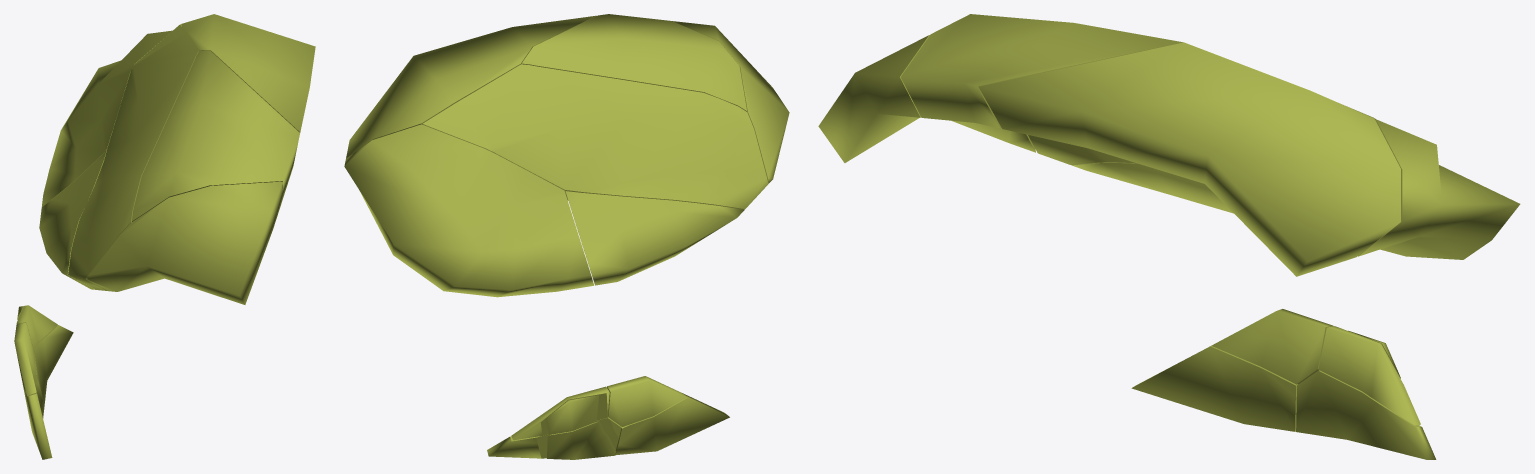
The model's file is Plaque_03.fbx.
The picture shows the model from 3 angles, left to right: view 1: azimuth 30°, elevation 25°; view 2: azimuth 150°, elevation 25°; view 3: azimuth 270°, elevation 25°; orthographic projection. The views are drawn at different scales.
Visible parts, largest first — view 1: tooth_d.039_cell.002, tooth_d.039_cell, tooth_d.039_cell.003, tooth_d.039_cell.004, tooth_d.039_cell.001, tooth_d.039_cell.005, tooth_d.050_cell.001, tooth_d.050_cell.004, tooth_d.050_cell.005, tooth_d.050_cell.002; view 2: tooth_d.039_cell.003, tooth_d.039_cell.001, tooth_d.039_cell, tooth_d.039_cell.004, tooth_d.039_cell.005, tooth_d.039_cell.002, tooth_d.050_cell.005, tooth_d.050_cell.004, tooth_d.050_cell.003, tooth_d.050_cell.001, tooth_d.050_cell, tooth_d.050_cell.002; view 3: tooth_d.039_cell.004, tooth_d.039_cell, tooth_d.039_cell.001, tooth_d.050_cell.005, tooth_d.039_cell.002, tooth_d.050_cell.001, tooth_d.050_cell.004, tooth_d.050_cell.002, tooth_d.039_cell.005, tooth_d.039_cell.003.
Boxes of the visible parts, x1,y1,x2,y2 form: tooth_d.039_cell.002: [86, 181, 282, 304]; tooth_d.039_cell: [131, 50, 299, 221]; tooth_d.039_cell.003: [68, 24, 198, 290]; tooth_d.039_cell.004: [181, 14, 315, 132]; tooth_d.039_cell.001: [42, 24, 181, 206]; tooth_d.039_cell.005: [39, 149, 106, 289]; tooth_d.050_cell.001: [34, 325, 73, 404]; tooth_d.050_cell.004: [14, 323, 36, 395]; tooth_d.050_cell.005: [23, 375, 52, 459]; tooth_d.050_cell.002: [16, 305, 57, 352]; tooth_d.039_cell.003: [423, 64, 768, 209]; tooth_d.039_cell.001: [344, 124, 593, 297]; tooth_d.039_cell: [521, 14, 746, 111]; tooth_d.039_cell.004: [346, 15, 596, 158]; tooth_d.039_cell.005: [565, 191, 744, 285]; tooth_d.039_cell.002: [671, 21, 789, 183]; tooth_d.050_cell.005: [615, 392, 729, 455]; tooth_d.050_cell.004: [607, 376, 686, 426]; tooth_d.050_cell.003: [547, 421, 615, 459]; tooth_d.050_cell.001: [487, 417, 621, 458]; tooth_d.050_cell: [545, 395, 598, 434]; tooth_d.050_cell.002: [511, 386, 609, 440]; tooth_d.039_cell.004: [978, 42, 1400, 276]; tooth_d.039_cell: [900, 14, 1183, 128]; tooth_d.039_cell.001: [1358, 118, 1520, 259]; tooth_d.050_cell.005: [1131, 346, 1297, 431]; tooth_d.039_cell.002: [818, 35, 1035, 162]; tooth_d.050_cell.001: [1296, 370, 1436, 459]; tooth_d.050_cell.004: [1211, 309, 1333, 384]; tooth_d.050_cell.002: [1318, 326, 1420, 425]; tooth_d.039_cell.005: [1071, 162, 1233, 213]; tooth_d.039_cell.003: [1028, 106, 1373, 164].
Bounding box in the file's own units: 75.42 × 79.56 × 106.
